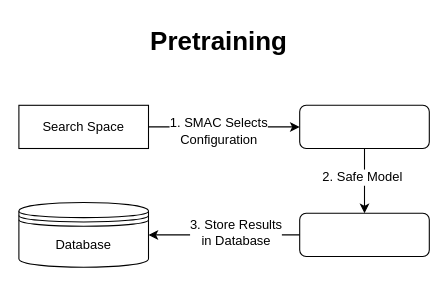
Image size: 448x286. Some labels were removed from this diagram. Each missing label, with the centre of its shape:
"Evaluation of pretrained Model" belongs at [364,234].
"Pretraining of selected Config" belongs at [364,126].
